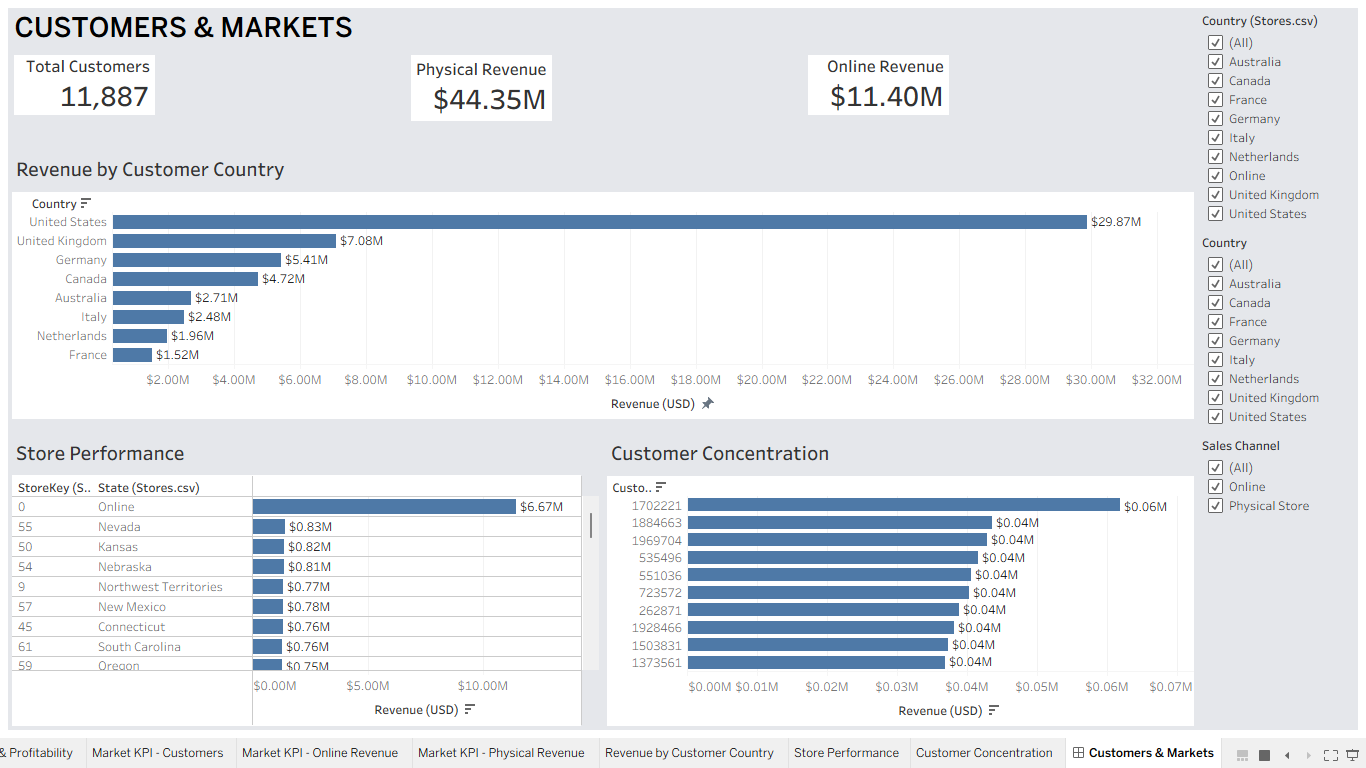

This screenshot's page, from the dashboard's own definition file:
{"tool":"tableau","page":{"name":"Customers & Markets","canvas":[1000,1000],"units":"permille","ordinal":0},"visuals":[{"type":"text","box":[6.9,13.7,847.6,54.8]},{"type":"filter","title":"Store Performance","param":"[federated.0h9zmot1fqvaf0160yl9j1oxcu2t].[none:Country (Stores.csv):nk]","box":[854.5,13.7,138.5,380.1]},{"type":"worksheet","title":"Market KPI - Customers","mark":"Automatic","box":[6.9,68.5,283.1,131.8]},{"type":"worksheet","title":"Market KPI - Physical Revenue","mark":"Automatic","box":[290,68.5,282.2,131.8]},{"type":"worksheet","title":"Market KPI - Online Revenue","mark":"Automatic","box":[572.3,68.5,282.3,131.8]},{"type":"worksheet","title":"Revenue by Customer Country","mark":"Automatic","rows":["Country"],"cols":["Calculation_0073728170811392"],"box":[6.9,200.3,604.3,383.6]},{"type":"dashboard-object","box":[611.3,200.3,243.3,191.8]},{"type":"dashboard-object","box":[611.3,392.1,243.3,191.8]},{"type":"filter","title":"Revenue by Customer Country","param":"[federated.0h9zmot1fqvaf0160yl9j1oxcu2t].[none:Country:nk]","box":[854.5,393.8,138.5,347.6]},{"type":"worksheet","title":"Store Performance","mark":"Automatic","rows":["StoreKey (Stores.csv)","State (Stores.csv)"],"cols":["Calculation_0073728170811392"],"box":[6.9,583.9,423.8,402.4]},{"type":"worksheet","title":"Customer Concentration","mark":"Automatic","rows":["CustomerKey"],"cols":["Calculation_0073728170811392"],"box":[430.7,583.9,423.8,402.4]},{"type":"filter","title":"Store Performance","param":"[federated.0h9zmot1fqvaf0160yl9j1oxcu2t].[none:Calculation_0809305066196997:nk]","box":[854.5,741.4,138.5,152.4]}]}

Visuals, with their boxes on the dashboard's canvas, which has no fixed pixel size, in thousandths of its width and height (x1, y1, x2, y2). These are canvas units, not pixel positions in the 1366x768 screenshot, which may show the page scaled, cropped or inside an application window:
text: select_region(7, 14, 854, 68)
"Store Performance" filter: select_region(854, 14, 993, 394)
"Market KPI - Customers" worksheet: select_region(7, 68, 290, 200)
"Market KPI - Physical Revenue" worksheet: select_region(290, 68, 572, 200)
"Market KPI - Online Revenue" worksheet: select_region(572, 68, 855, 200)
"Revenue by Customer Country" worksheet: select_region(7, 200, 611, 584)
dashboard-object: select_region(611, 200, 855, 392)
dashboard-object: select_region(611, 392, 855, 584)
"Revenue by Customer Country" filter: select_region(854, 394, 993, 741)
"Store Performance" worksheet: select_region(7, 584, 431, 986)
"Customer Concentration" worksheet: select_region(431, 584, 854, 986)
"Store Performance" filter: select_region(854, 741, 993, 894)
